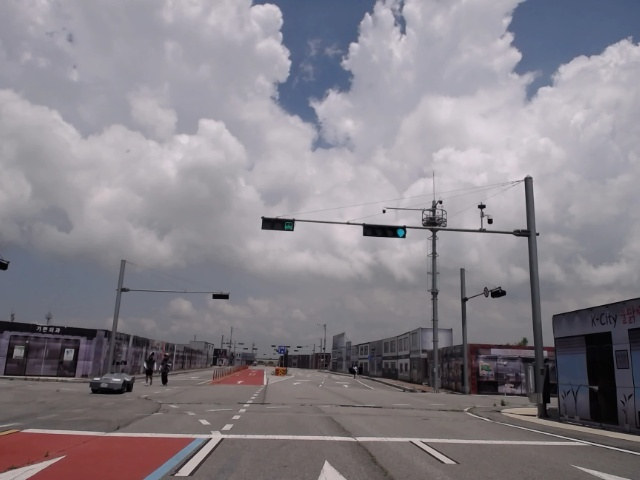straight_green_4: (364, 225, 406, 238)
